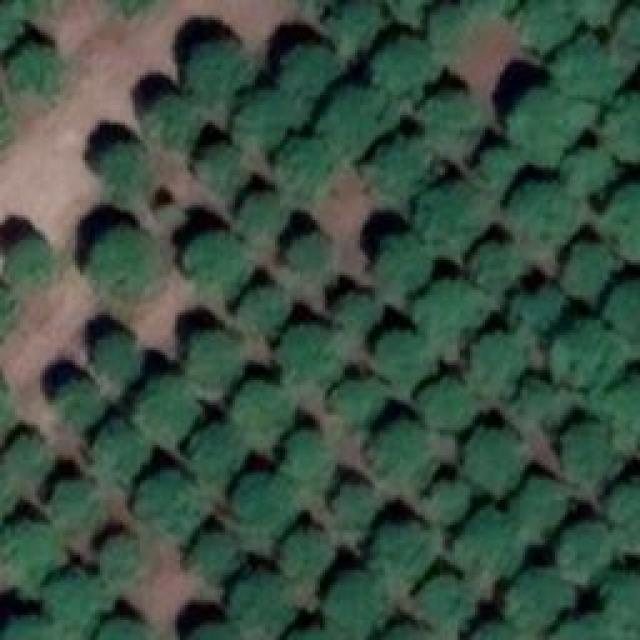Tree: (510, 88, 582, 168), (90, 228, 163, 298), (550, 317, 621, 388), (417, 277, 489, 347), (508, 178, 583, 243), (417, 183, 487, 252), (555, 35, 626, 100), (373, 228, 441, 293), (317, 85, 387, 147), (185, 230, 251, 295), (185, 325, 249, 392), (503, 565, 571, 628), (465, 423, 522, 496), (465, 328, 528, 392), (232, 572, 290, 640), (188, 38, 250, 100), (38, 573, 101, 634), (368, 40, 432, 100), (557, 423, 615, 489), (460, 510, 519, 574), (3, 520, 63, 582), (368, 423, 431, 482), (513, 475, 572, 537), (597, 372, 640, 457), (228, 90, 291, 147), (368, 140, 435, 193), (232, 377, 291, 436), (280, 320, 340, 378), (331, 573, 384, 638), (127, 375, 187, 432), (330, 0, 397, 51), (555, 523, 610, 585), (283, 425, 336, 488), (420, 370, 471, 434), (135, 475, 190, 534), (190, 143, 251, 196), (370, 328, 431, 381), (180, 430, 237, 486), (278, 43, 337, 96), (560, 242, 614, 299), (230, 474, 287, 528), (90, 426, 143, 484), (366, 523, 418, 582), (513, 0, 575, 49), (335, 285, 390, 339), (8, 40, 61, 96), (275, 530, 335, 579), (418, 572, 469, 629), (143, 98, 202, 147), (426, 90, 478, 145), (275, 140, 333, 189), (280, 225, 333, 278), (185, 530, 238, 583), (510, 374, 564, 426), (425, 0, 480, 51), (43, 478, 95, 531), (53, 378, 104, 432), (600, 185, 640, 253), (93, 325, 148, 374), (238, 285, 291, 335), (565, 143, 614, 197), (93, 143, 148, 191), (3, 235, 52, 288), (420, 474, 469, 526), (510, 278, 564, 325), (603, 485, 640, 553), (602, 565, 639, 631), (600, 95, 639, 157), (92, 535, 139, 586), (333, 377, 383, 423), (5, 430, 48, 481), (238, 182, 285, 227), (613, 280, 640, 351), (90, 615, 155, 640), (0, 612, 58, 640), (547, 617, 614, 640), (610, 3, 639, 51), (463, 622, 536, 640), (0, 0, 20, 60), (385, 625, 431, 640), (188, 625, 231, 640)
